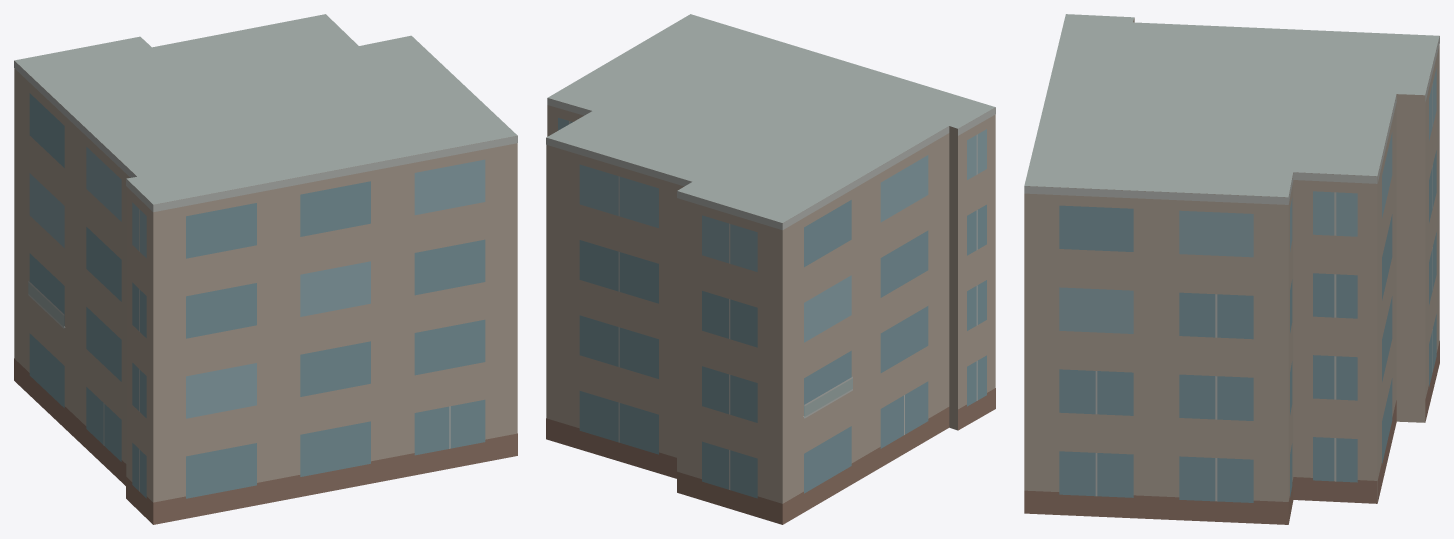
The model's file is survey-upis-32567263.glb.
3 views of the same model, side by side, from view 1: azimuth 30°, elevation 25°; view 2: azimuth 150°, elevation 25°; view 3: azimuth 270°, elevation 25° (orthographic). The views are drawn at different scales.
Visible parts, largest first — view 1: survey-upis-32567263.tmp; view 2: survey-upis-32567263.tmp; view 3: survey-upis-32567263.tmp.
Part boxes in pixels (x1=…): survey-upis-32567263.tmp: x1=14, y1=14, x2=517, y2=524; survey-upis-32567263.tmp: x1=546, y1=14, x2=995, y2=524; survey-upis-32567263.tmp: x1=1024, y1=14, x2=1439, y2=524.
Size of the model in its own units: 12.43 by 10.35 by 11.9.
